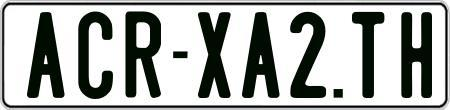2: (290, 12, 328, 104)
A: (25, 11, 67, 102), (242, 9, 283, 98)
C: (77, 10, 112, 102)
H: (400, 10, 432, 97)
R: (125, 9, 163, 96)
T: (350, 9, 385, 100)
X: (196, 10, 230, 98)
